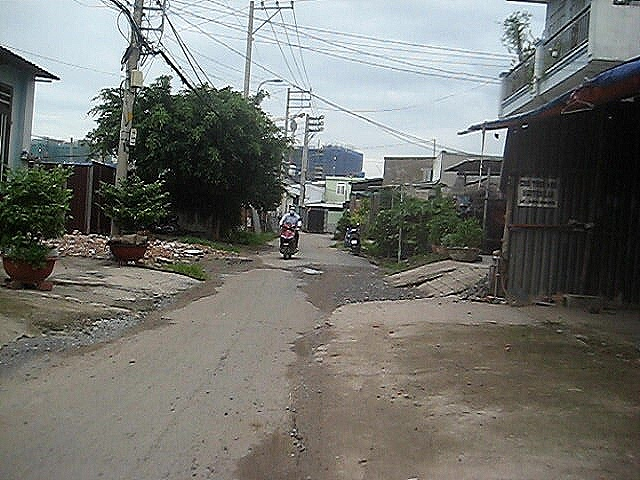hole: (284, 264, 328, 276)
